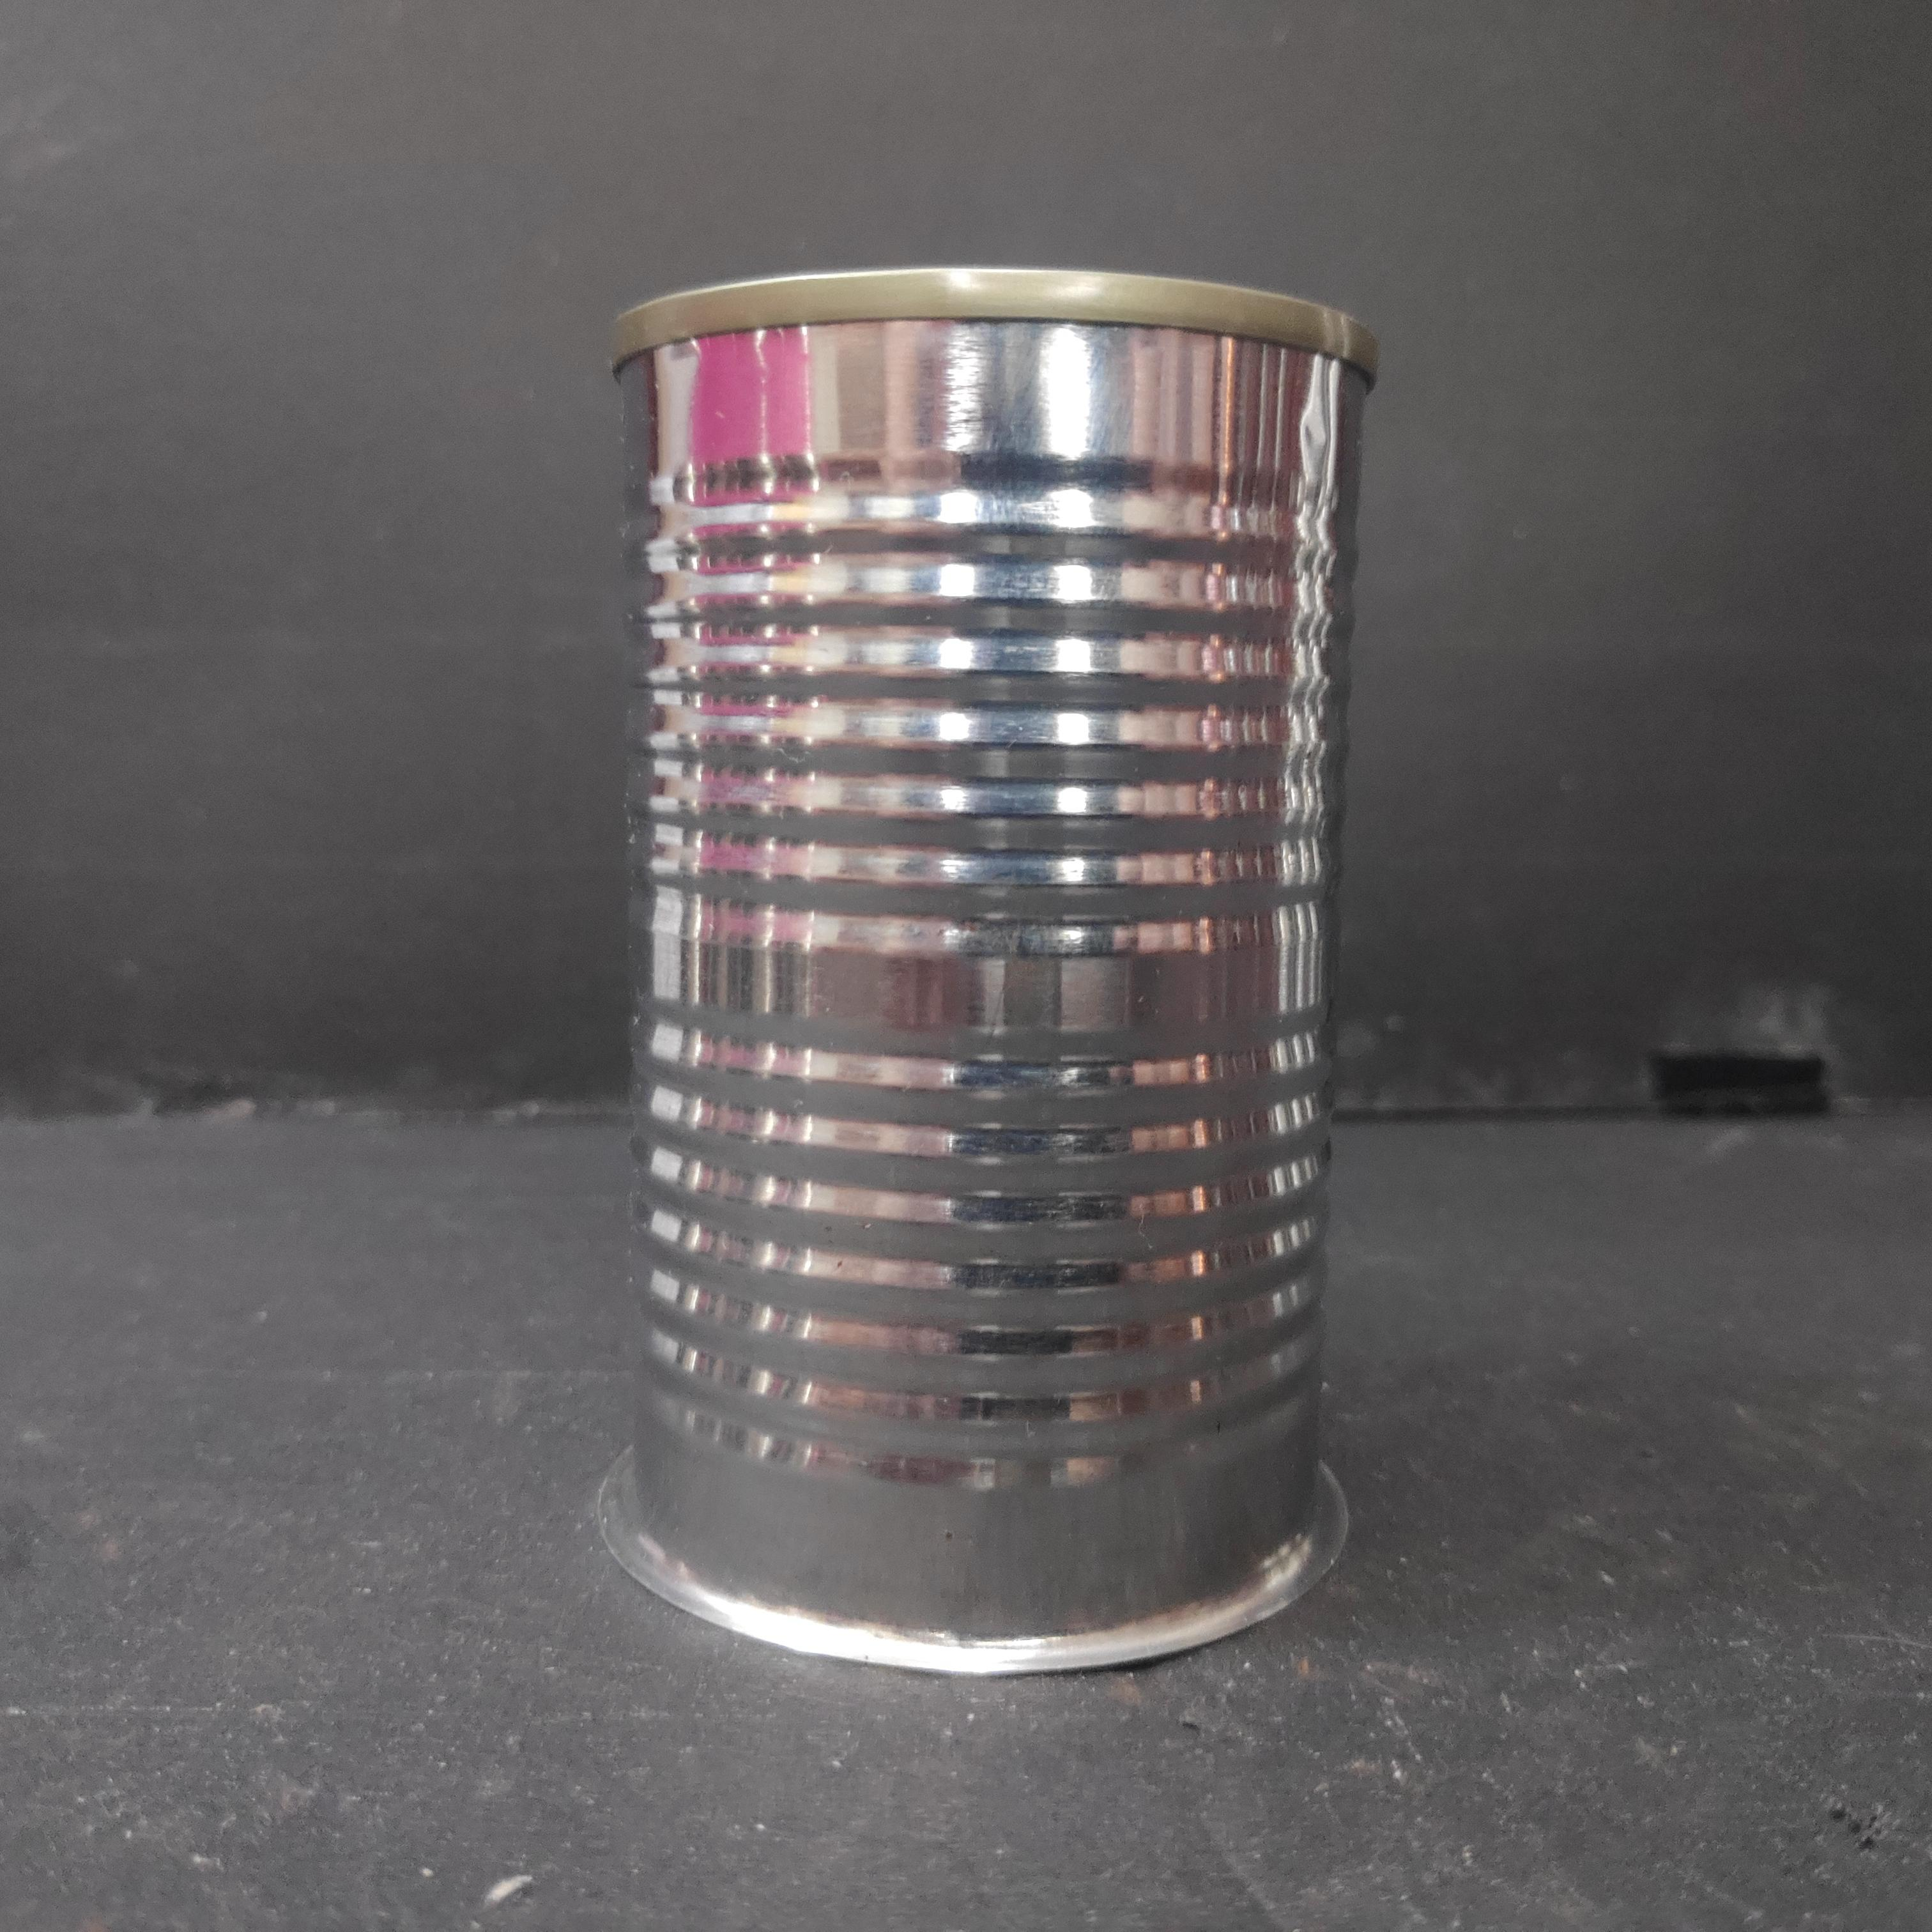No defect: (595, 256, 1383, 1678)
